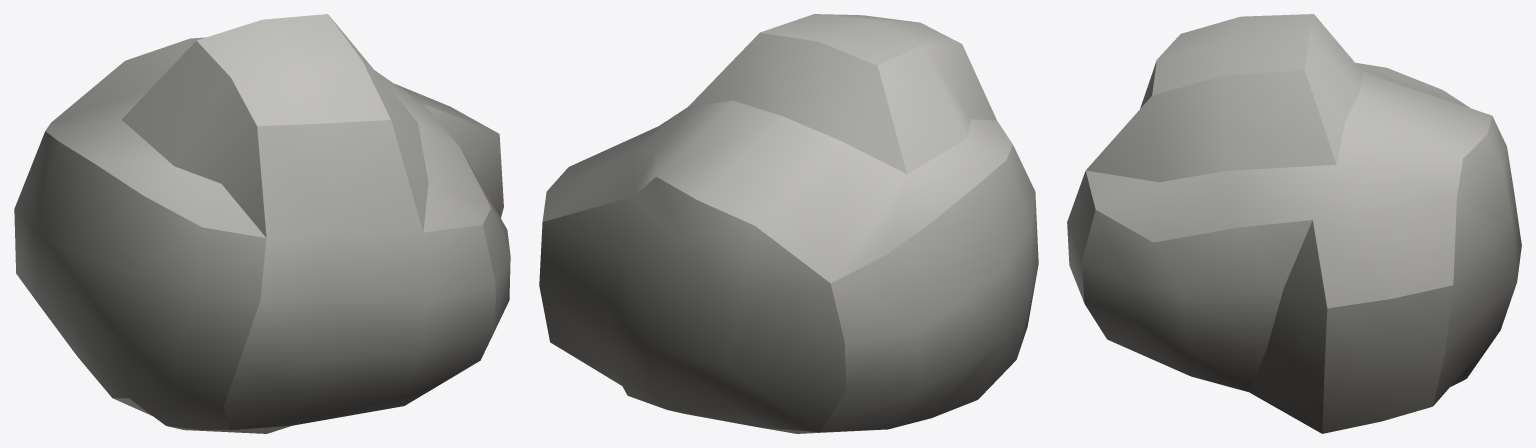
File: Rock_Boulder_B.fbx
3 views of the same model, side by side, from view 1: azimuth 30°, elevation 25°; view 2: azimuth 150°, elevation 25°; view 3: azimuth 270°, elevation 25° (orthographic). The views are drawn at different scales.
Parts seen in each view (by area): view 1: Rock_Boulder_B; view 2: Rock_Boulder_B; view 3: Rock_Boulder_B.
Part boxes in pixels (box(x1,y1,x2,y2)): Rock_Boulder_B: box(14, 14, 510, 433); Rock_Boulder_B: box(539, 14, 1038, 433); Rock_Boulder_B: box(1067, 14, 1521, 433).
Bounding box in the file's own units: 687 × 676 × 559.
Materials: 1 (1 with a texture image).
